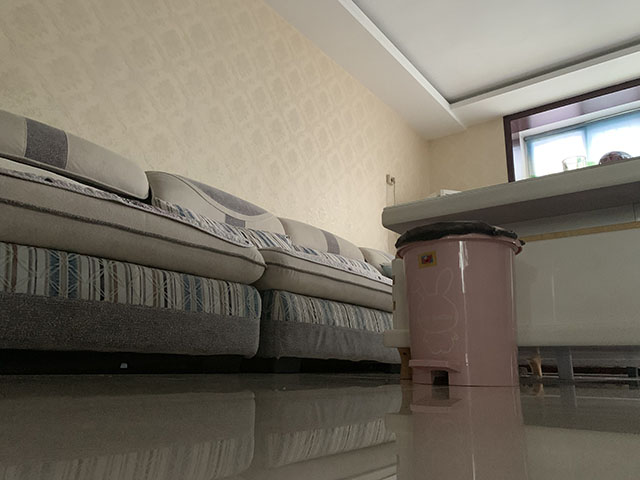sofa: (1, 109, 402, 367)
table: (381, 155, 640, 381)
trashcan: (394, 220, 527, 388)
